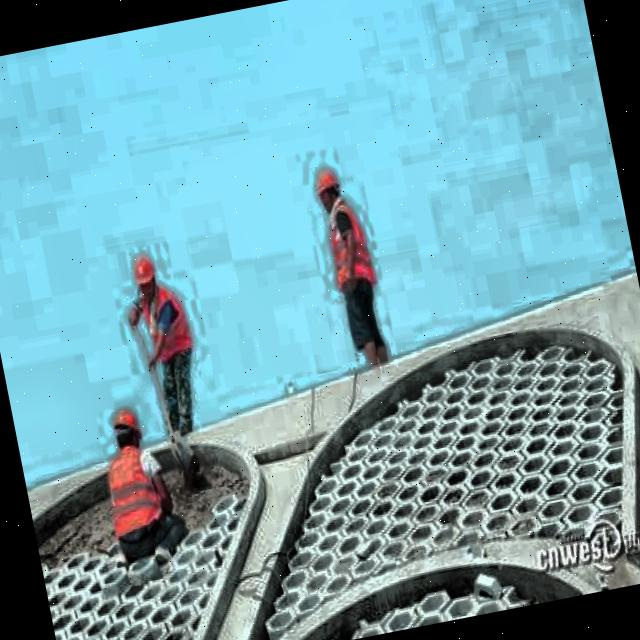helmet: (105, 402, 147, 464), (125, 249, 164, 308), (311, 161, 348, 219)
